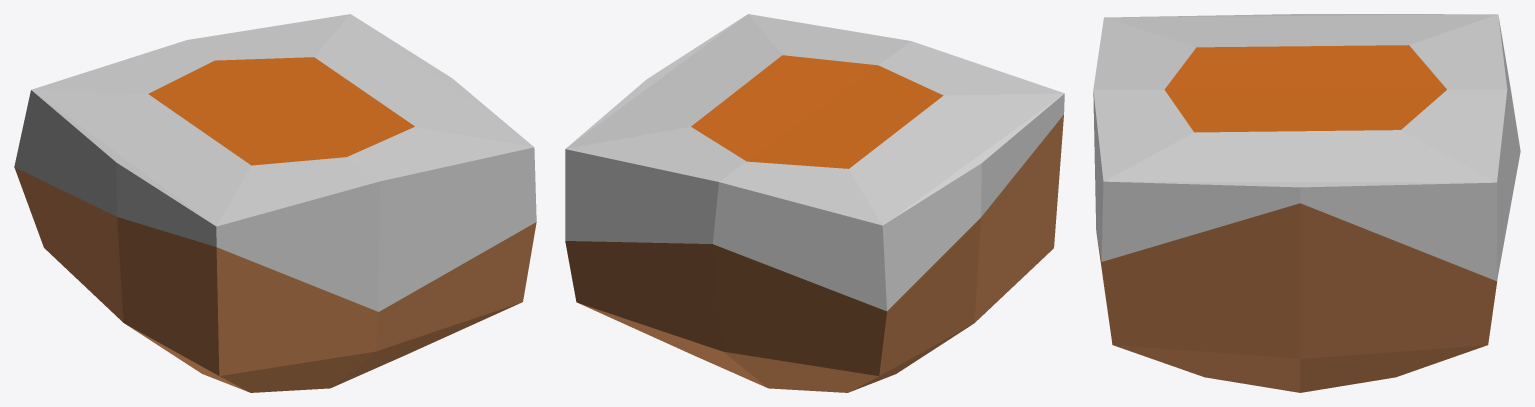
File: softboiledEgg.fbx
3 views of the same model, side by side, from view 1: azimuth 30°, elevation 25°; view 2: azimuth 150°, elevation 25°; view 3: azimuth 270°, elevation 25° (orthographic). The views are drawn at different scales.
Parts seen in each view (by area): view 1: softboiledEgg; view 2: softboiledEgg; view 3: softboiledEgg.
Boxes of the visible parts, bbox=[...] form: softboiledEgg: bbox=[14, 14, 536, 392]; softboiledEgg: bbox=[565, 14, 1064, 392]; softboiledEgg: bbox=[1093, 14, 1520, 392].
Bounding box in the file's own units: 7.35 × 5 × 7.42.
Materials: 1 (1 with a texture image).
